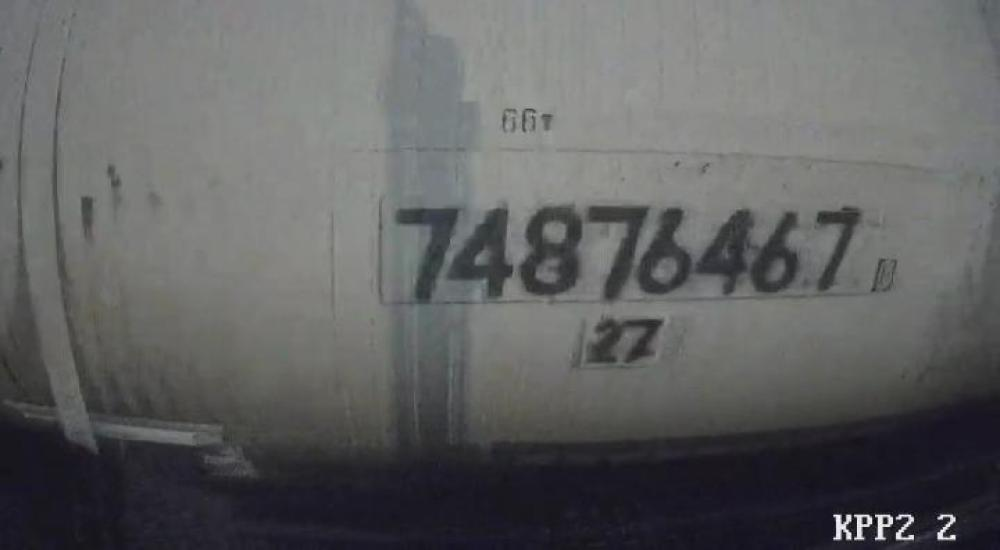Wagon-number: (389, 203, 856, 299)
